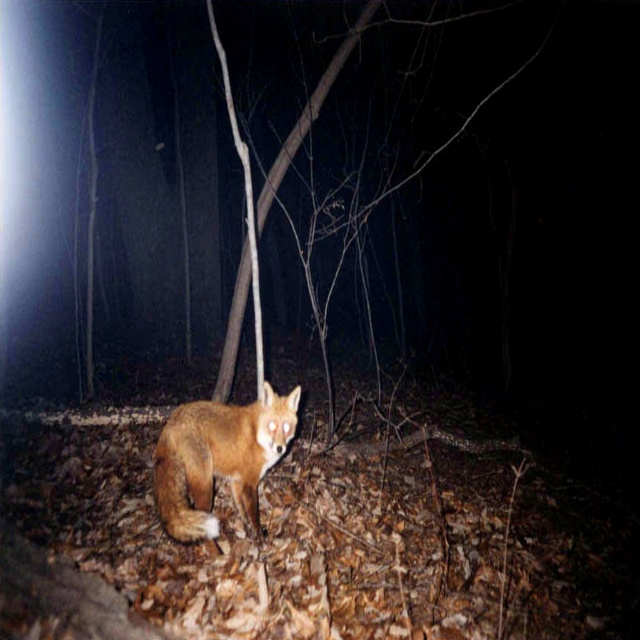Fox: (151, 379, 301, 561)
